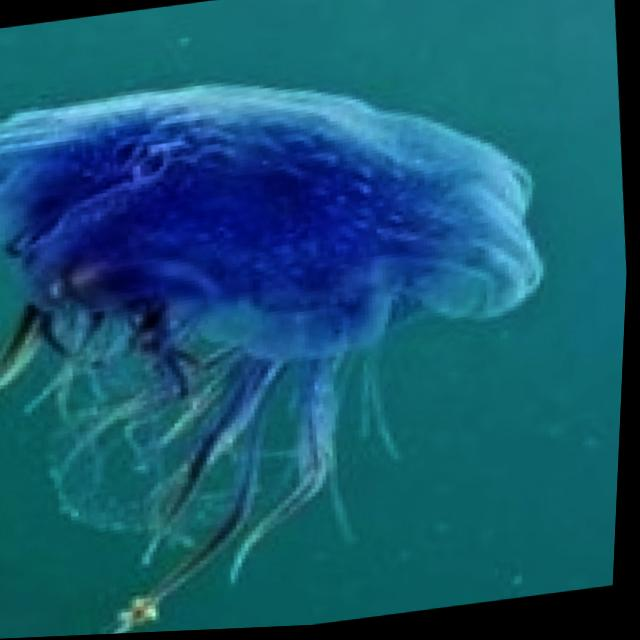Jellyfish: (0, 31, 588, 640)
